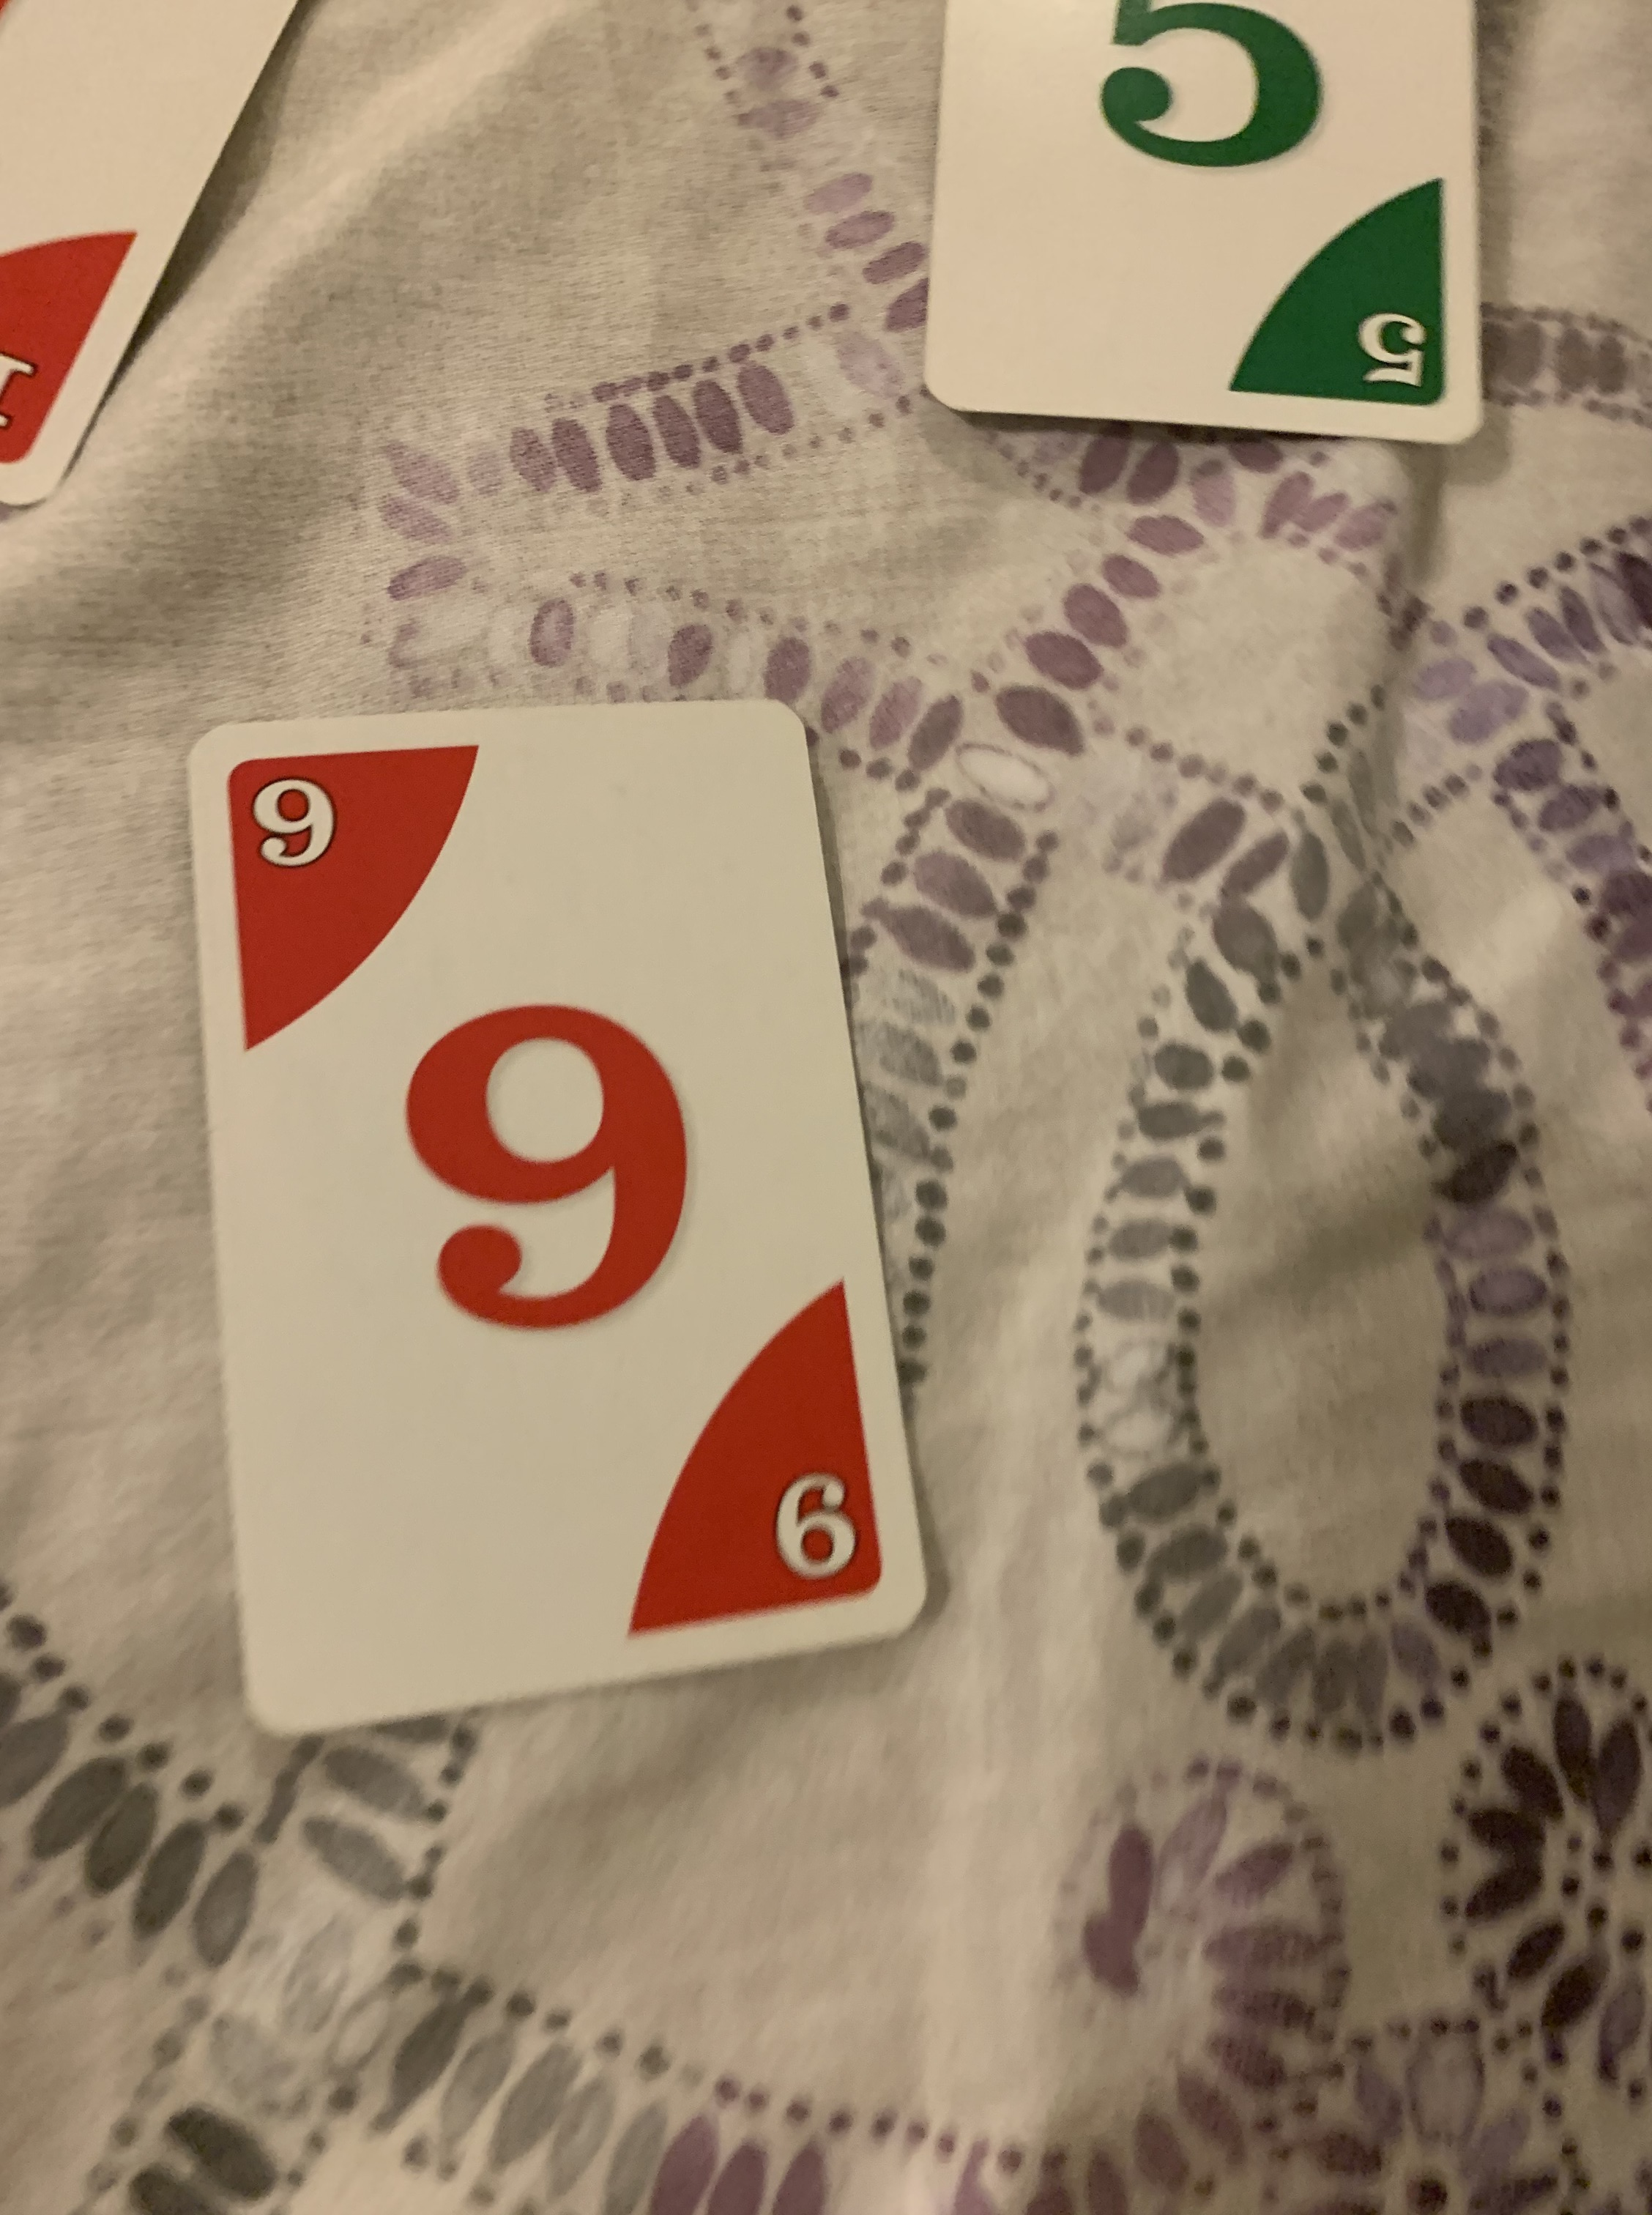five: (925, 0, 1491, 448)
nine: (168, 696, 934, 1755)
